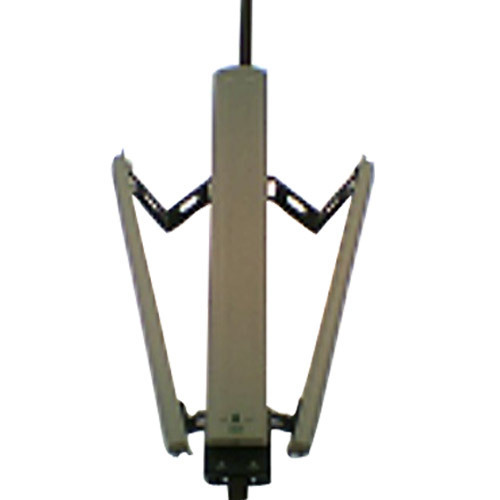sa: (207, 52, 283, 478)
